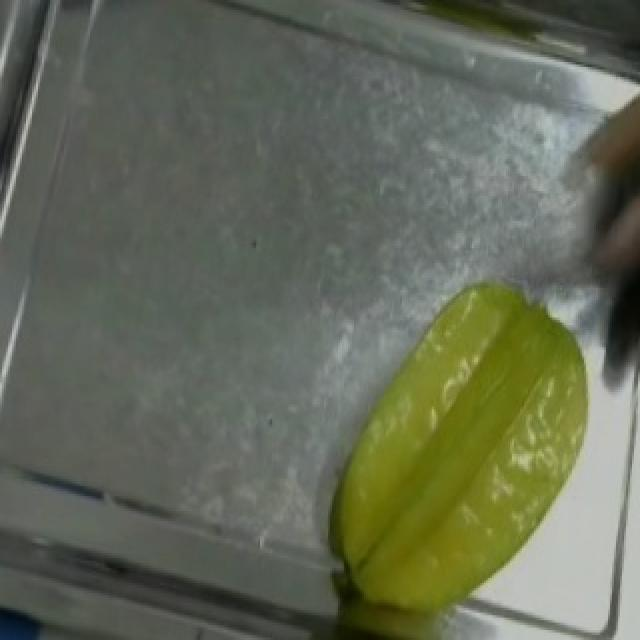fruit: (304, 266, 624, 638)
